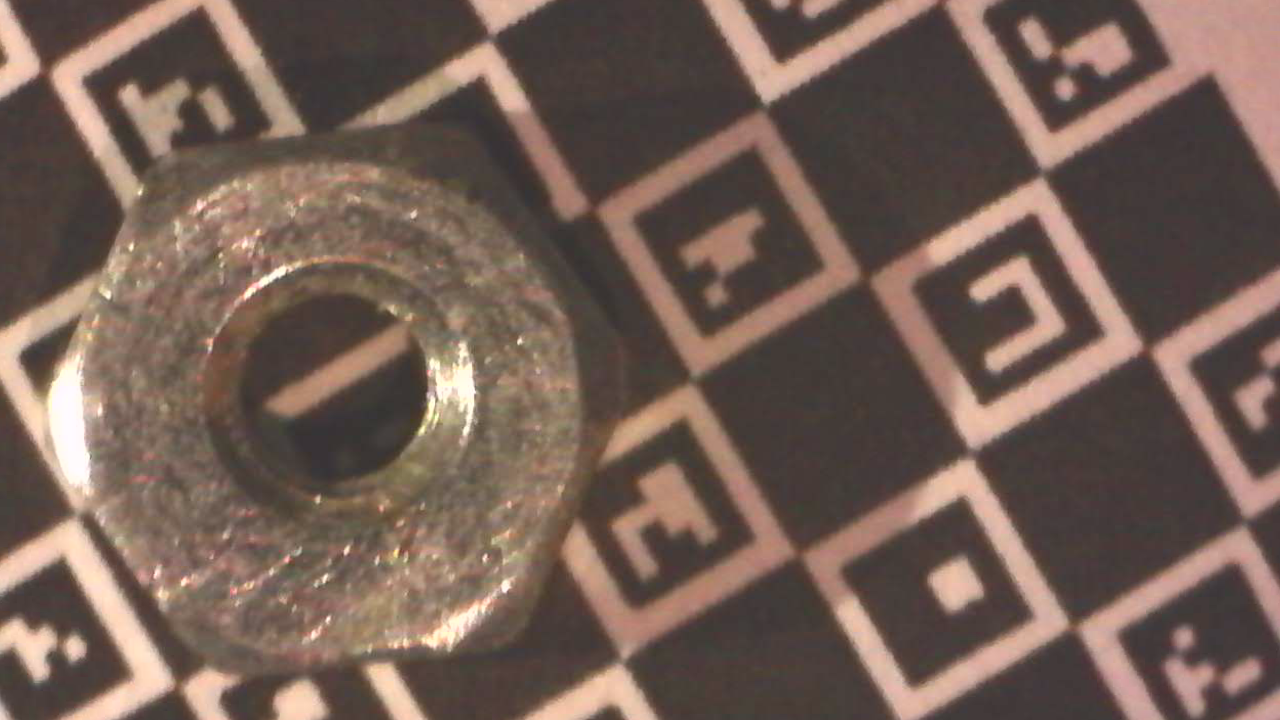Bolt: (36, 121, 639, 678)
